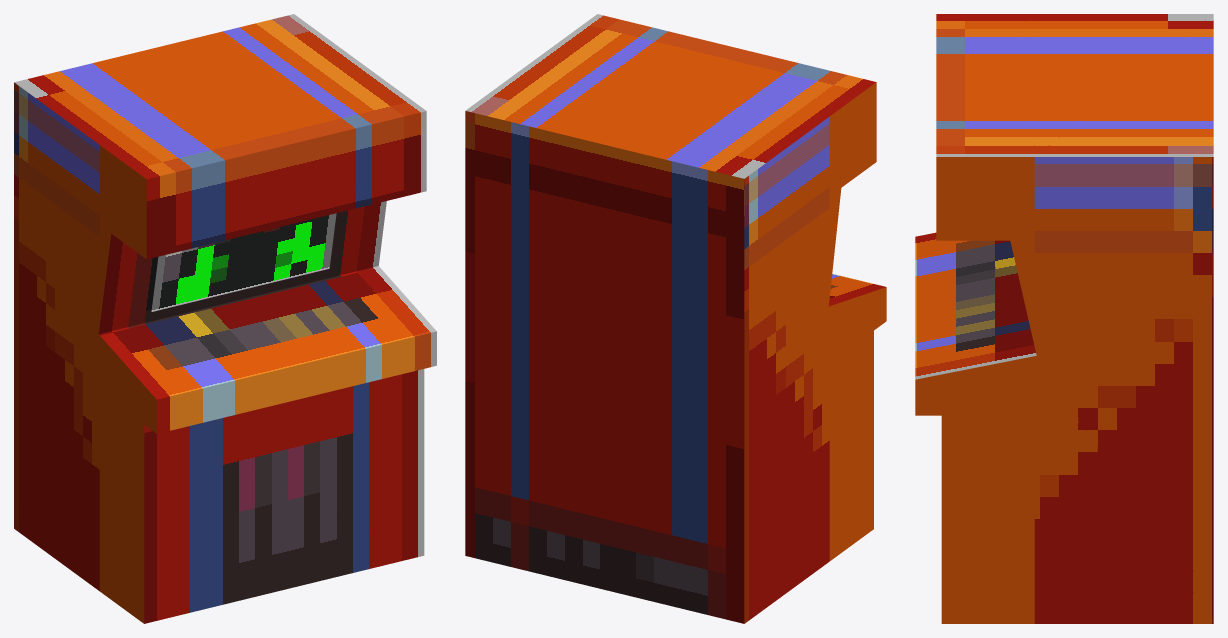
File: arcade.glb
3 views of the same model, side by side, from view 1: azimuth 30°, elevation 25°; view 2: azimuth 150°, elevation 25°; view 3: azimuth 270°, elevation 25° (orthographic). The views are drawn at different scales.
Parts seen in each view (by area): view 1: Cabinet, Screen; view 2: Cabinet; view 3: Cabinet.
Part boxes in pixels (x1=…): Cabinet: x1=14, y1=14, x2=436, y2=623; Screen: x1=151, y1=213, x2=336, y2=311; Cabinet: x1=465, y1=14, x2=886, y2=623; Cabinet: x1=915, y1=14, x2=1213, y2=623.
Bounding box in the file's own units: 1.28 × 1.95 × 1.13.
2 materials, 2 textured.
